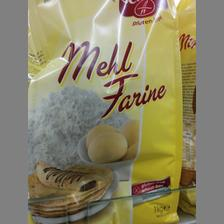Mehl: (28, 0, 182, 222)
